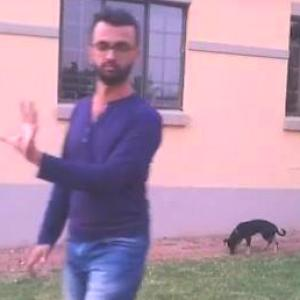follow_hand: (1, 95, 48, 158)
